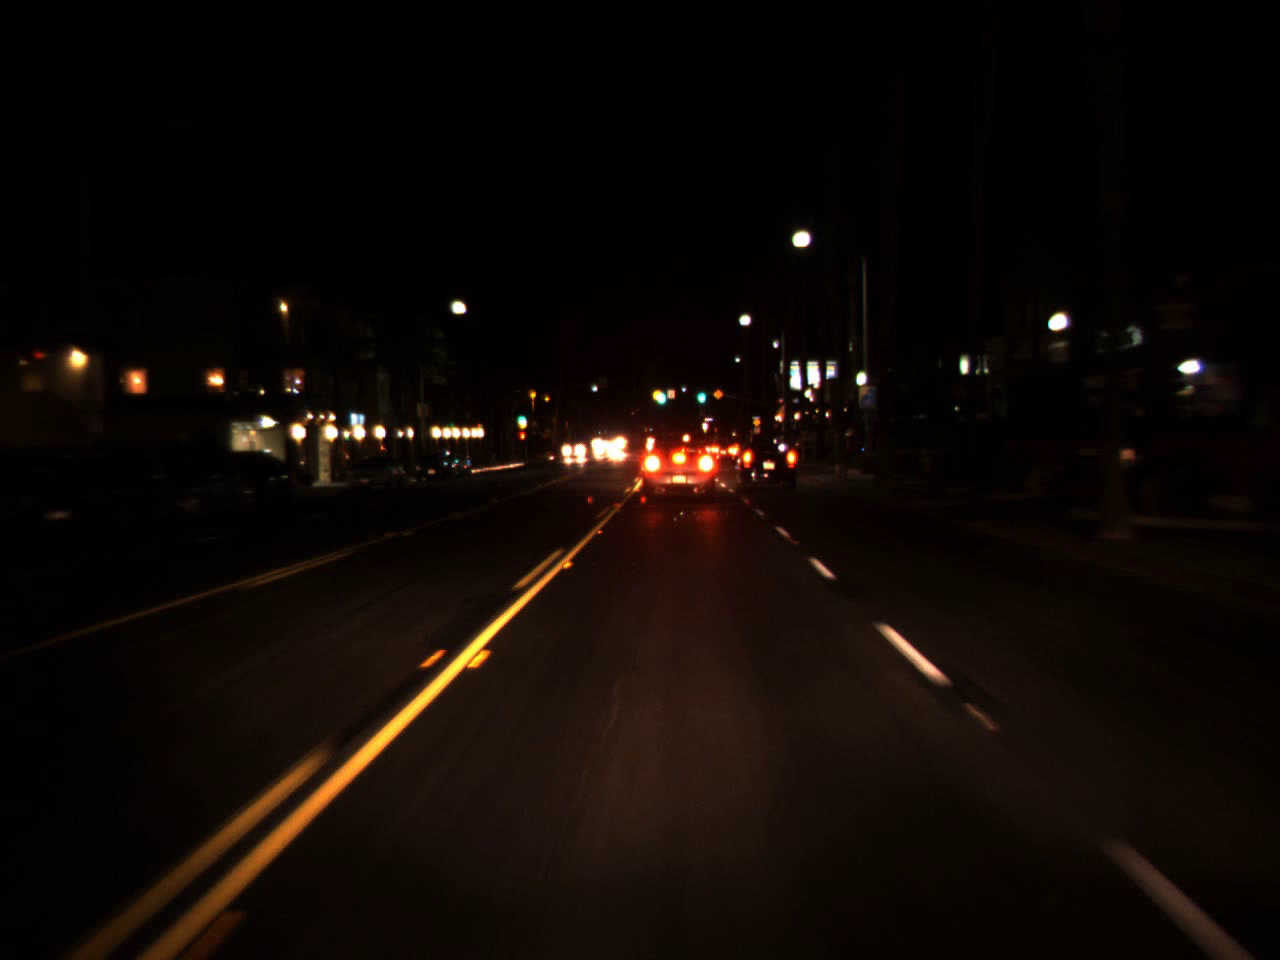go: (656, 382, 666, 406), (694, 385, 706, 403), (514, 410, 526, 422)
